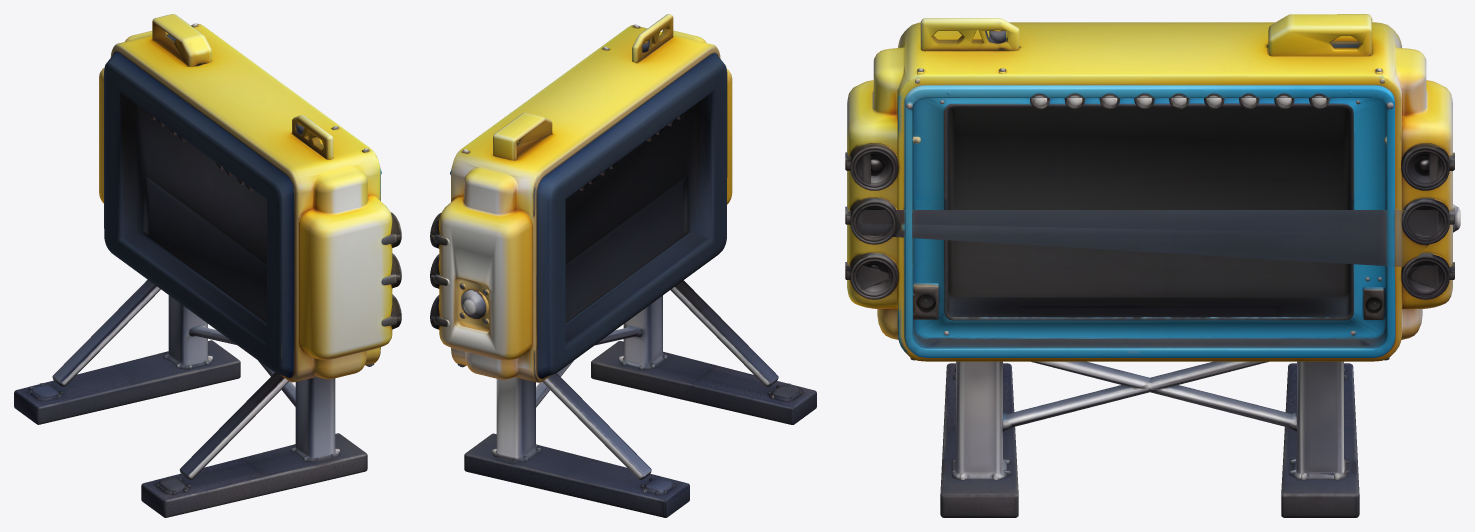
The picture shows the model from 3 angles, left to right: view 1: azimuth 30°, elevation 25°; view 2: azimuth 150°, elevation 25°; view 3: azimuth 270°, elevation 25°; orthographic projection. The views are drawn at different scales.
Parts seen in each view (by area): view 1: tripo_node_64b82821-eed3-4030-83cd-1c6648117d30; view 2: tripo_node_64b82821-eed3-4030-83cd-1c6648117d30; view 3: tripo_node_64b82821-eed3-4030-83cd-1c6648117d30.
Part boxes in pixels (x1,y1,x2,y2): tripo_node_64b82821-eed3-4030-83cd-1c6648117d30: (14,14,401,517); tripo_node_64b82821-eed3-4030-83cd-1c6648117d30: (430,14,816,517); tripo_node_64b82821-eed3-4030-83cd-1c6648117d30: (845,14,1460,517).
Bounding box in the file's own units: 0.5112 × 0.8452 × 0.9995.
1 material, 1 textured.
